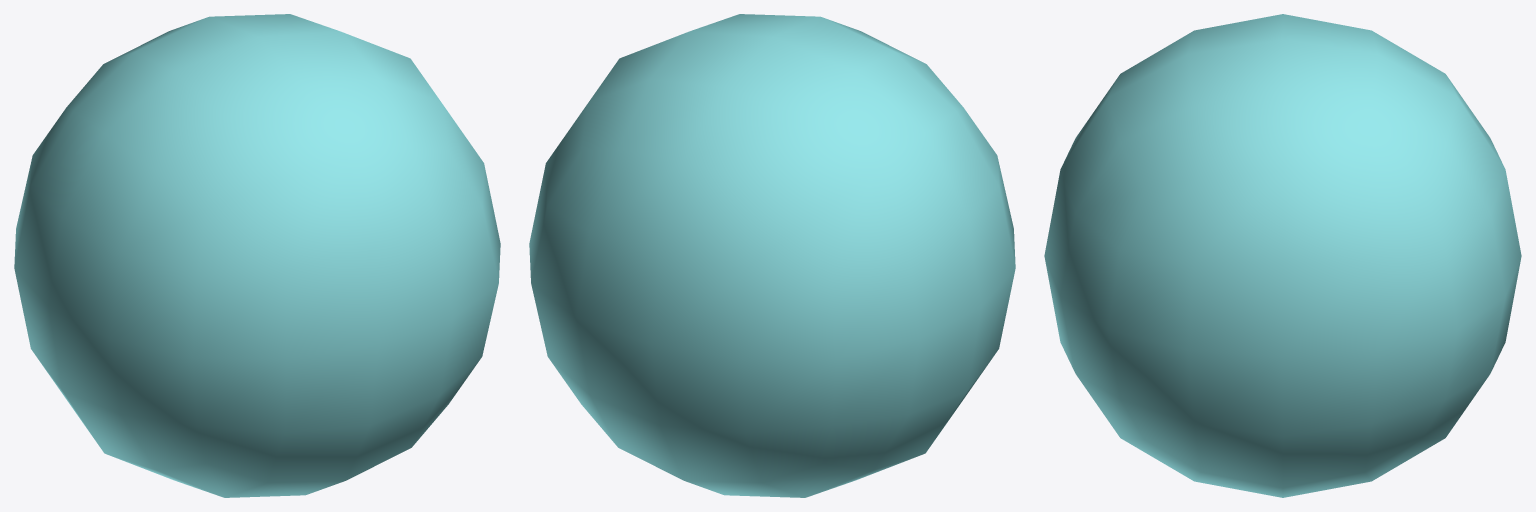
Rendered from Moneda.fbx.
3 views of the same model, side by side, from view 1: azimuth 30°, elevation 25°; view 2: azimuth 150°, elevation 25°; view 3: azimuth 270°, elevation 25° (orthographic).
Visible parts, largest first — view 1: Moneda; view 2: Moneda; view 3: Moneda.
Part boxes in pixels (x1,y1,x2,y2): Moneda: (14, 14, 500, 497); Moneda: (529, 14, 1015, 497); Moneda: (1044, 14, 1521, 497).
Size of the model in its own units: 13.18 by 13.18 by 13.18.
